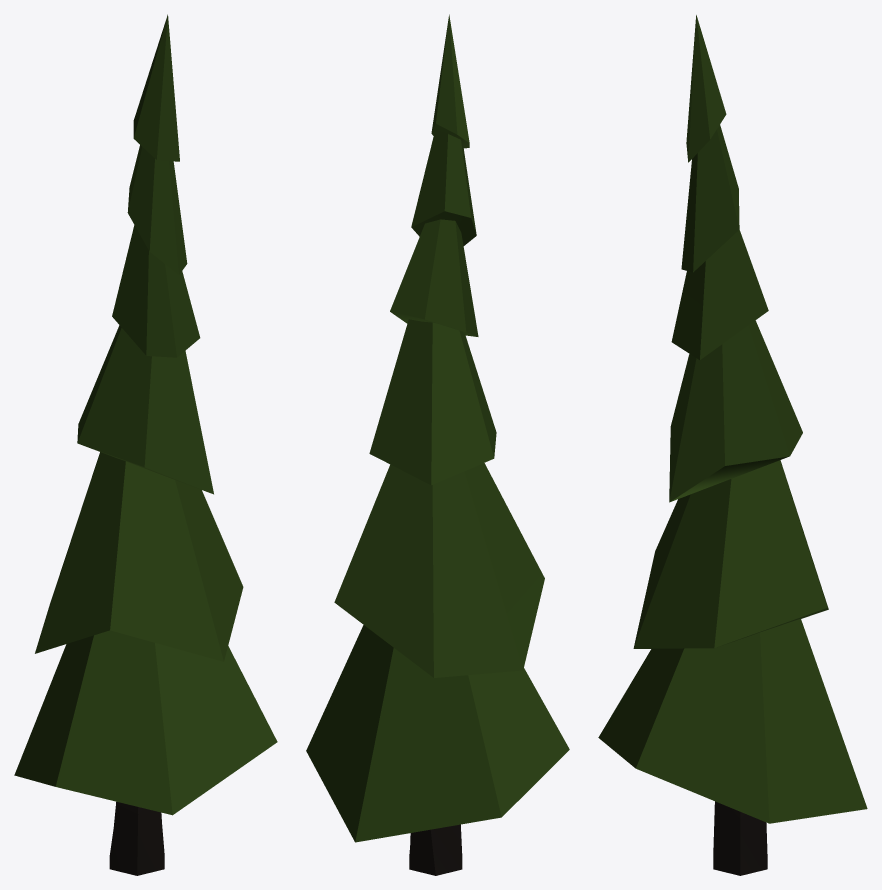
The model's file is Pine_02.FBX.
3 renders of one model, left to right at view 1: azimuth 30°, elevation 25°; view 2: azimuth 150°, elevation 25°; view 3: azimuth 270°, elevation 25°, orthographic. The views are drawn at different scales.
Parts seen in each view (by area): view 1: Pine_02; view 2: Pine_02; view 3: Pine_02.
Boxes of the visible parts, box(x1,y1,x2,y2) form: Pine_02: box(14, 14, 277, 875); Pine_02: box(306, 14, 569, 875); Pine_02: box(598, 15, 867, 875).
Size of the model in its own units: 0.1285 by 0.4602 by 0.1317.
